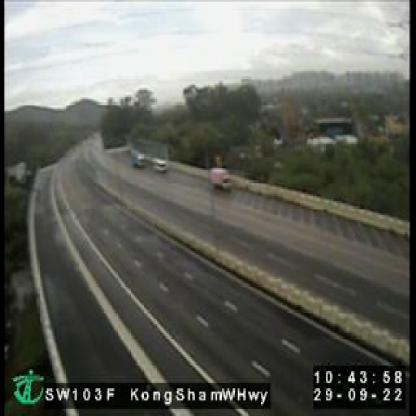Car: (149, 151, 169, 175)
Truck: (208, 168, 233, 191)
